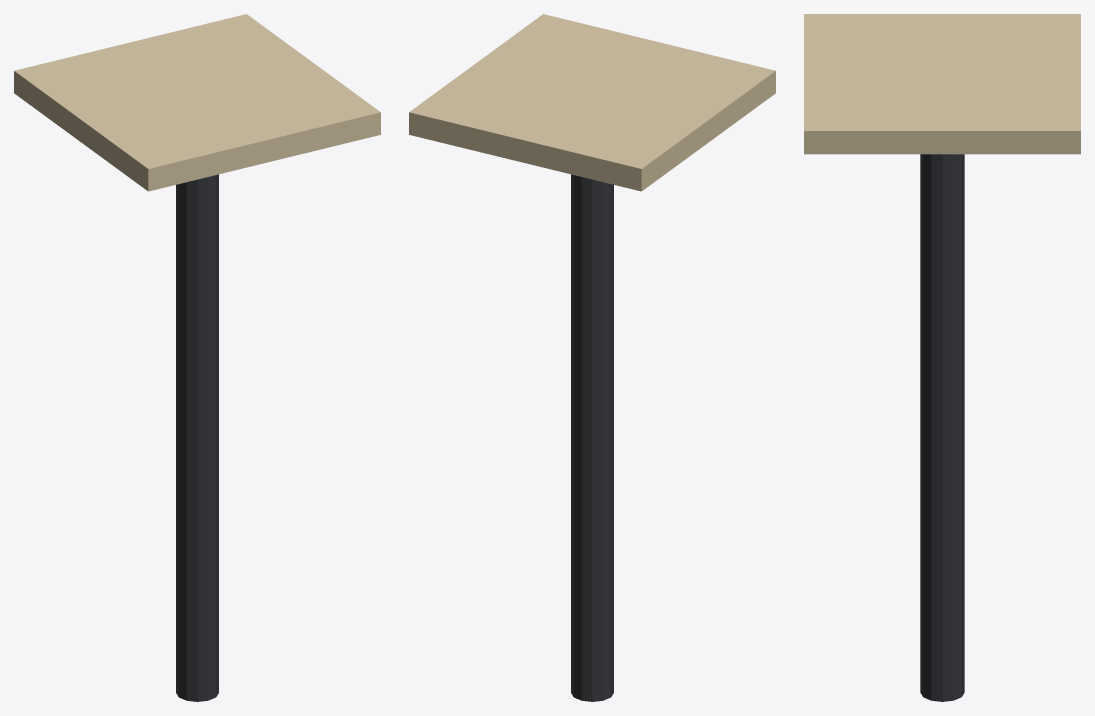
The model's file is bar_stool.glb.
3 views of the same model, side by side, from view 1: azimuth 30°, elevation 25°; view 2: azimuth 150°, elevation 25°; view 3: azimuth 270°, elevation 25° (orthographic). The views are drawn at different scales.
Size of the model in its own units: 0.4318 by 1.07 by 0.4318.
